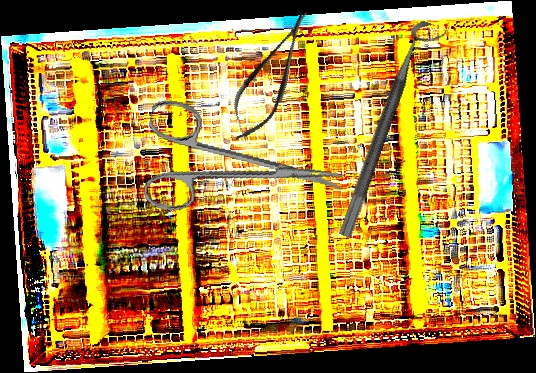Fixation Ring: (336, 17, 449, 246)
Iris Scissors: (135, 97, 352, 240)
Micro Scissor: (216, 0, 327, 151)
